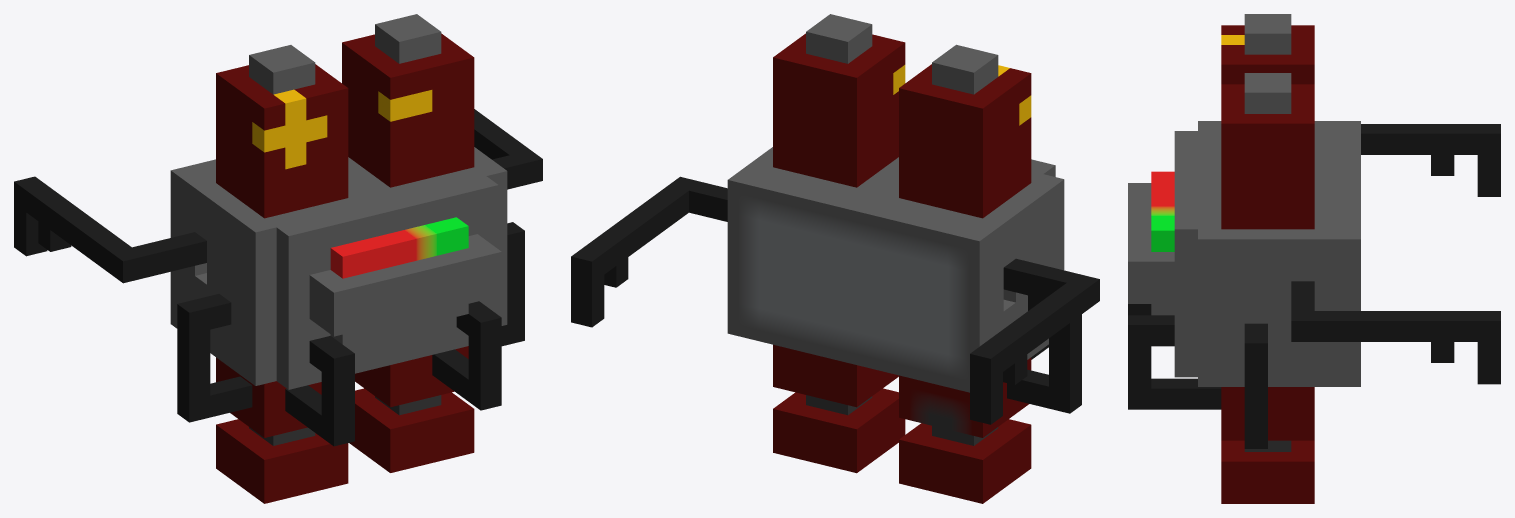
Rendered from Bag8.fbx.
3 renders of one model, left to right at view 1: azimuth 30°, elevation 25°; view 2: azimuth 150°, elevation 25°; view 3: azimuth 270°, elevation 25°, orthographic. The views are drawn at different scales.
Visible parts, largest first — view 1: Bag8; view 2: Bag8; view 3: Bag8.
Part boxes in pixels (left/top/right/bottom): Bag8: left=14, top=14, right=542, bottom=503; Bag8: left=571, top=14, right=1099, bottom=503; Bag8: left=1128, top=14, right=1500, bottom=503.
Bounding box in the file's own units: 100 × 95 × 80.
